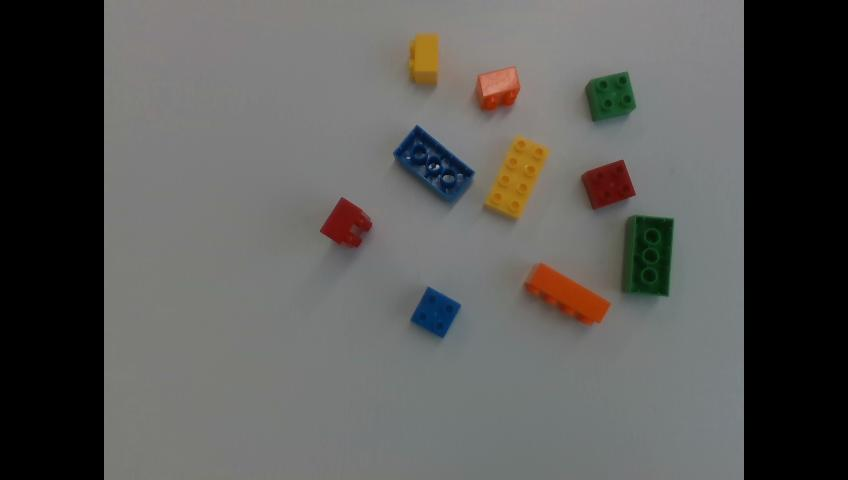2x2_blue: (411, 287, 459, 335)
2x2_green: (582, 72, 637, 120)
2x2_orange: (476, 66, 519, 110)
2x2_red: (581, 159, 636, 207)
2x2_yellow: (410, 33, 437, 83)
4x2_blue: (392, 123, 475, 200)
4x2_green: (624, 215, 673, 296)
4x2_orange: (523, 260, 611, 323)
4x2_red: (320, 195, 372, 245)
4x2_yellow: (484, 135, 548, 218)
